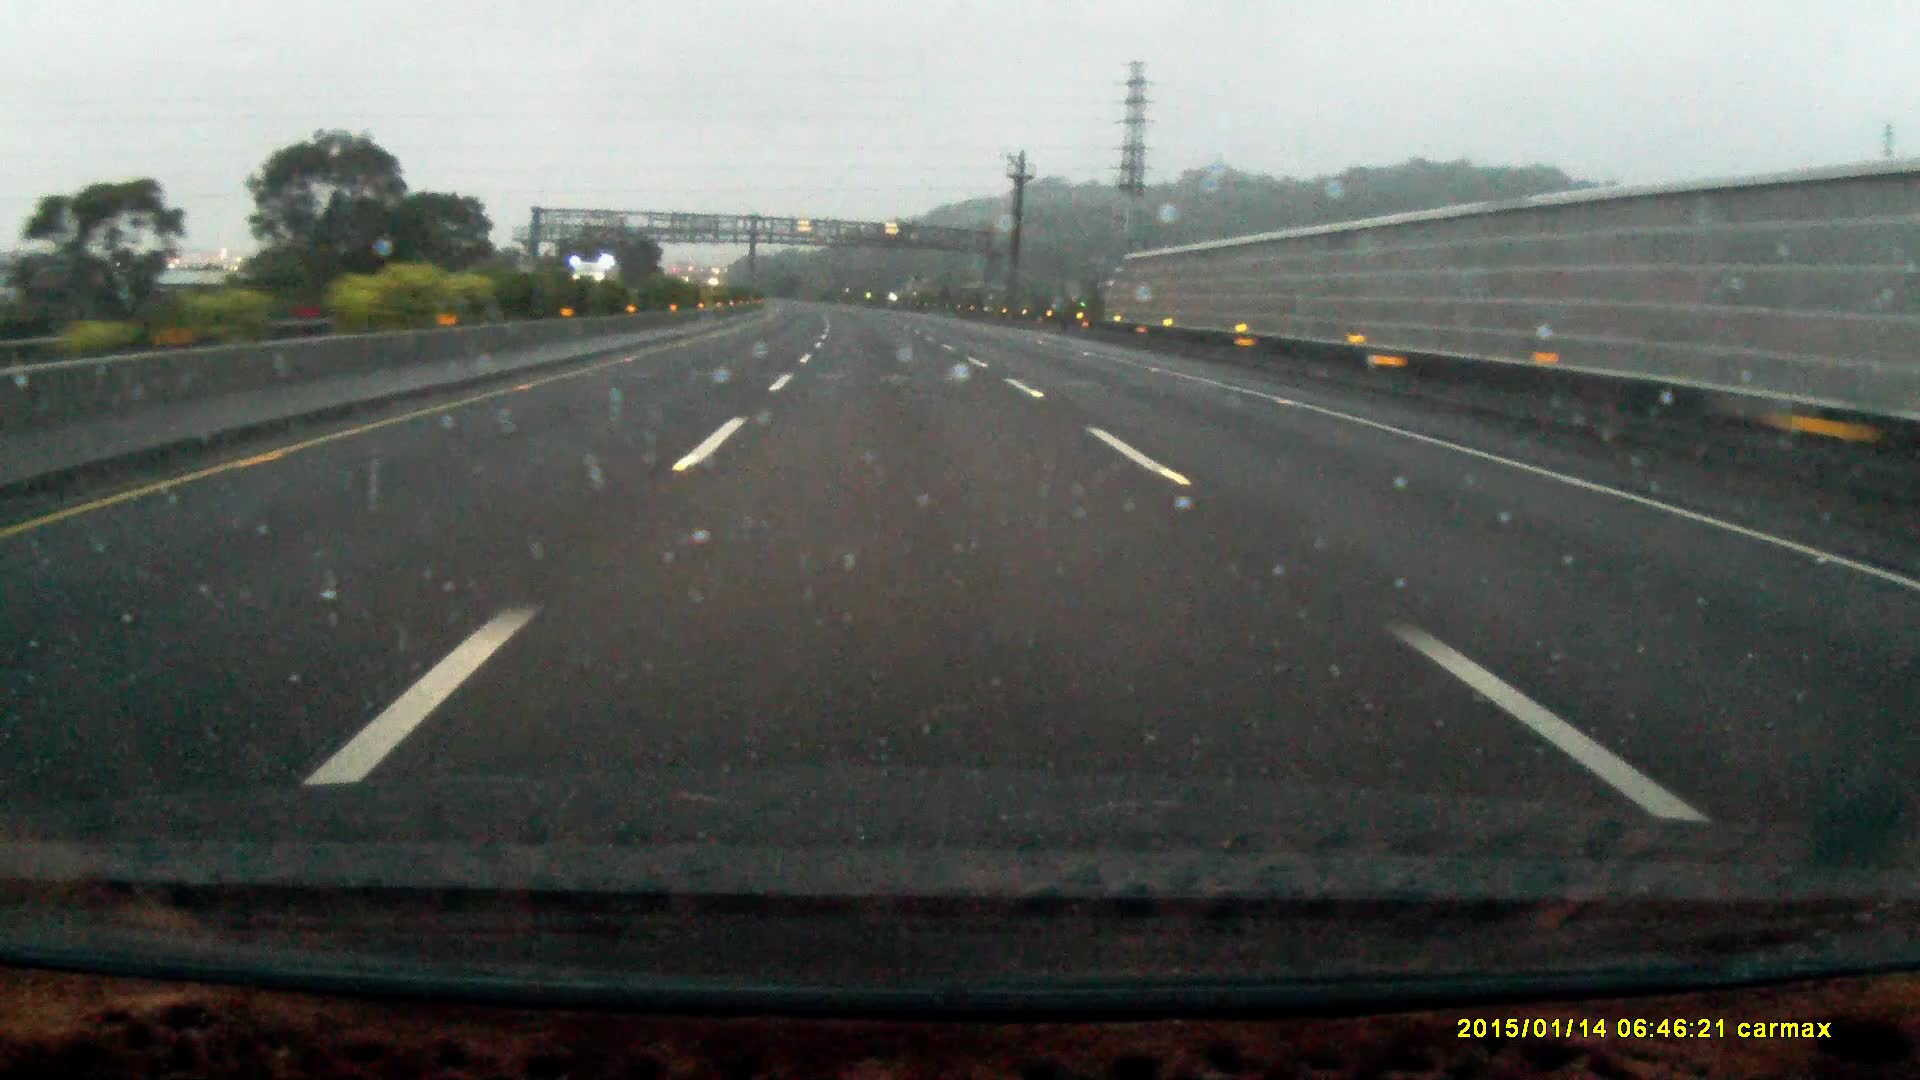vehicle: (571, 258, 620, 314)
